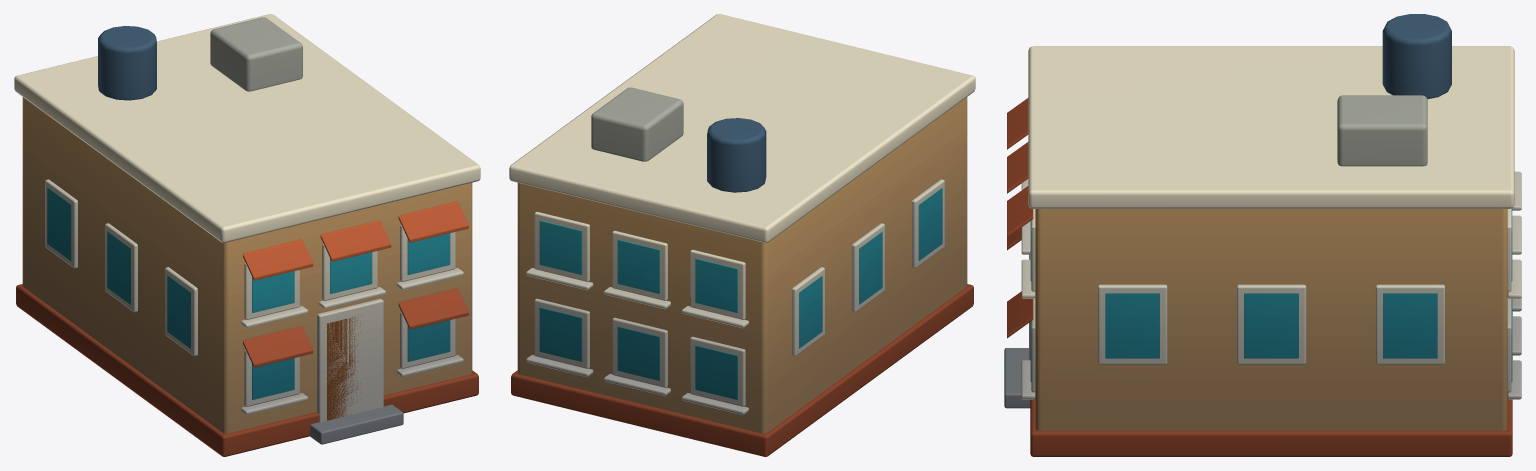
The model's file is house.glb.
3 views of the same model, side by side, from view 1: azimuth 30°, elevation 25°; view 2: azimuth 150°, elevation 25°; view 3: azimuth 270°, elevation 25° (orthographic). The views are drawn at different scales.
Parts seen in each view (by area): view 1: Parapet, Stucco walls, Plinth, Door frame, Roof utility, Water tank, Door, Door step, Awning.003, Awning.002, Awning, Awning.001 (+22 smaller); view 2: Stucco walls, Parapet, Plinth, Roof utility, Water tank, Window glass.010, Window glass.009, Window glass.005, Window glass.007, Window glass.008, Window glass.006, Window frame.007 (+17 smaller); view 3: Stucco walls, Parapet, Plinth, Roof utility, Water tank, Side glass.003, Side glass.004, Side glass.005, Side window.004, Side window.003, Side window.005, Door step (+4 smaller).
Boxes of the visible parts, bbox=[...] form: Parapet: bbox=[14, 14, 480, 242]; Stucco walls: bbox=[22, 97, 472, 433]; Plinth: bbox=[16, 284, 478, 456]; Door frame: bbox=[317, 298, 383, 422]; Roof utility: bbox=[210, 17, 302, 91]; Water tank: bbox=[98, 26, 156, 100]; Door: bbox=[327, 317, 361, 420]; Door step: bbox=[310, 404, 403, 444]; Awning.003: bbox=[398, 288, 468, 329]; Awning.002: bbox=[320, 220, 391, 261]; Awning: bbox=[243, 326, 313, 367]; Awning.001: bbox=[243, 239, 313, 280]; Stucco walls: bbox=[517, 97, 967, 433]; Parapet: bbox=[509, 14, 975, 242]; Plinth: bbox=[511, 284, 973, 456]; Roof utility: bbox=[591, 87, 683, 161]; Water tank: bbox=[707, 118, 766, 192]; Window glass.010: bbox=[539, 220, 582, 274]; Window glass.009: bbox=[539, 307, 582, 361]; Window glass.005: bbox=[695, 345, 737, 399]; Window glass.007: bbox=[617, 326, 659, 380]; Window glass.008: bbox=[617, 239, 659, 293]; Window glass.006: bbox=[695, 258, 737, 312]; Window frame.007: bbox=[612, 317, 667, 387]; Stucco walls: bbox=[1035, 209, 1507, 430]; Parapet: bbox=[1028, 46, 1514, 208]; Plinth: bbox=[1030, 312, 1512, 456]; Roof utility: bbox=[1337, 95, 1427, 166]; Water tank: bbox=[1382, 14, 1451, 99]; Side glass.003: bbox=[1105, 293, 1159, 358]; Side glass.004: bbox=[1244, 293, 1298, 358]; Side glass.005: bbox=[1383, 293, 1437, 358]; Side window.004: bbox=[1236, 284, 1306, 364]; Side window.003: bbox=[1098, 284, 1167, 364]; Side window.005: bbox=[1375, 284, 1444, 364]; Door step: bbox=[1004, 348, 1030, 408].
Bounding box in the file's own units: 5 × 5.2 × 7.44.
Materials: 7 (7 with a texture image).
